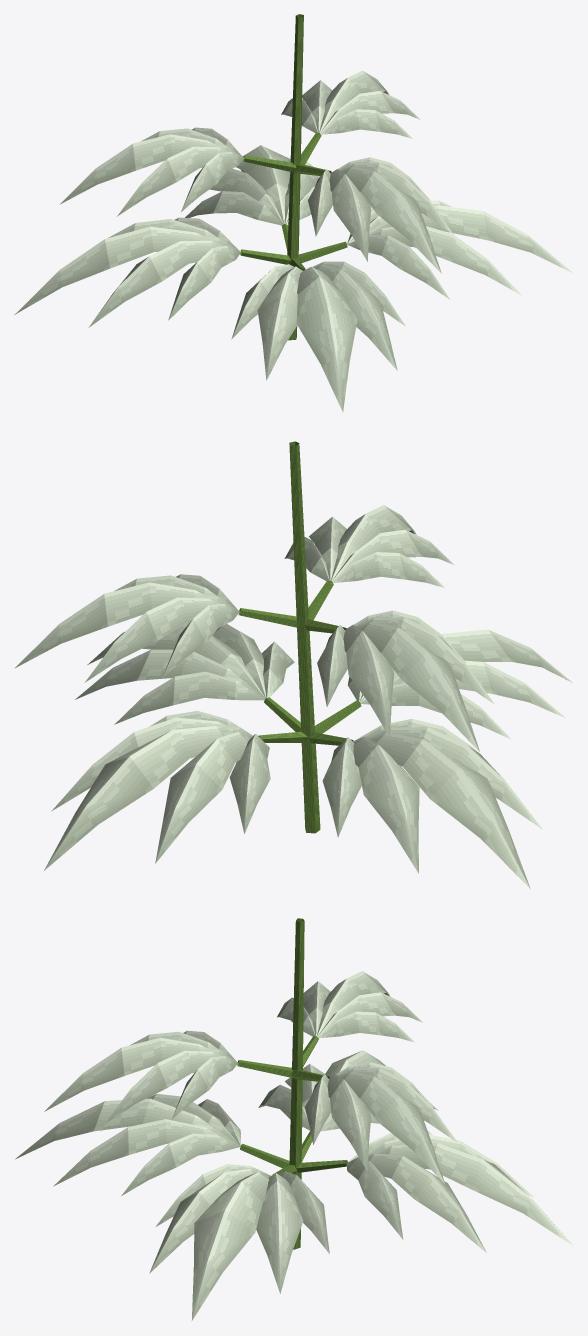
Rendered from hybrid_1.obj.
The picture shows the model from 3 angles, top to bottom: view 1: azimuth 30°, elevation 25°; view 2: azimuth 150°, elevation 25°; view 3: azimuth 270°, elevation 25°; orthographic projection. The views are drawn at different scales.
Parts seen in each view (by area): view 1: plant; view 2: plant; view 3: plant.
Part boxes in pixels (x1,y1,x2,y2): plant: [14, 14, 573, 411]; plant: [14, 441, 572, 889]; plant: [15, 918, 573, 1320].
Bounding box in the file's own units: 0.8396 × 0.5507 × 0.8396.
